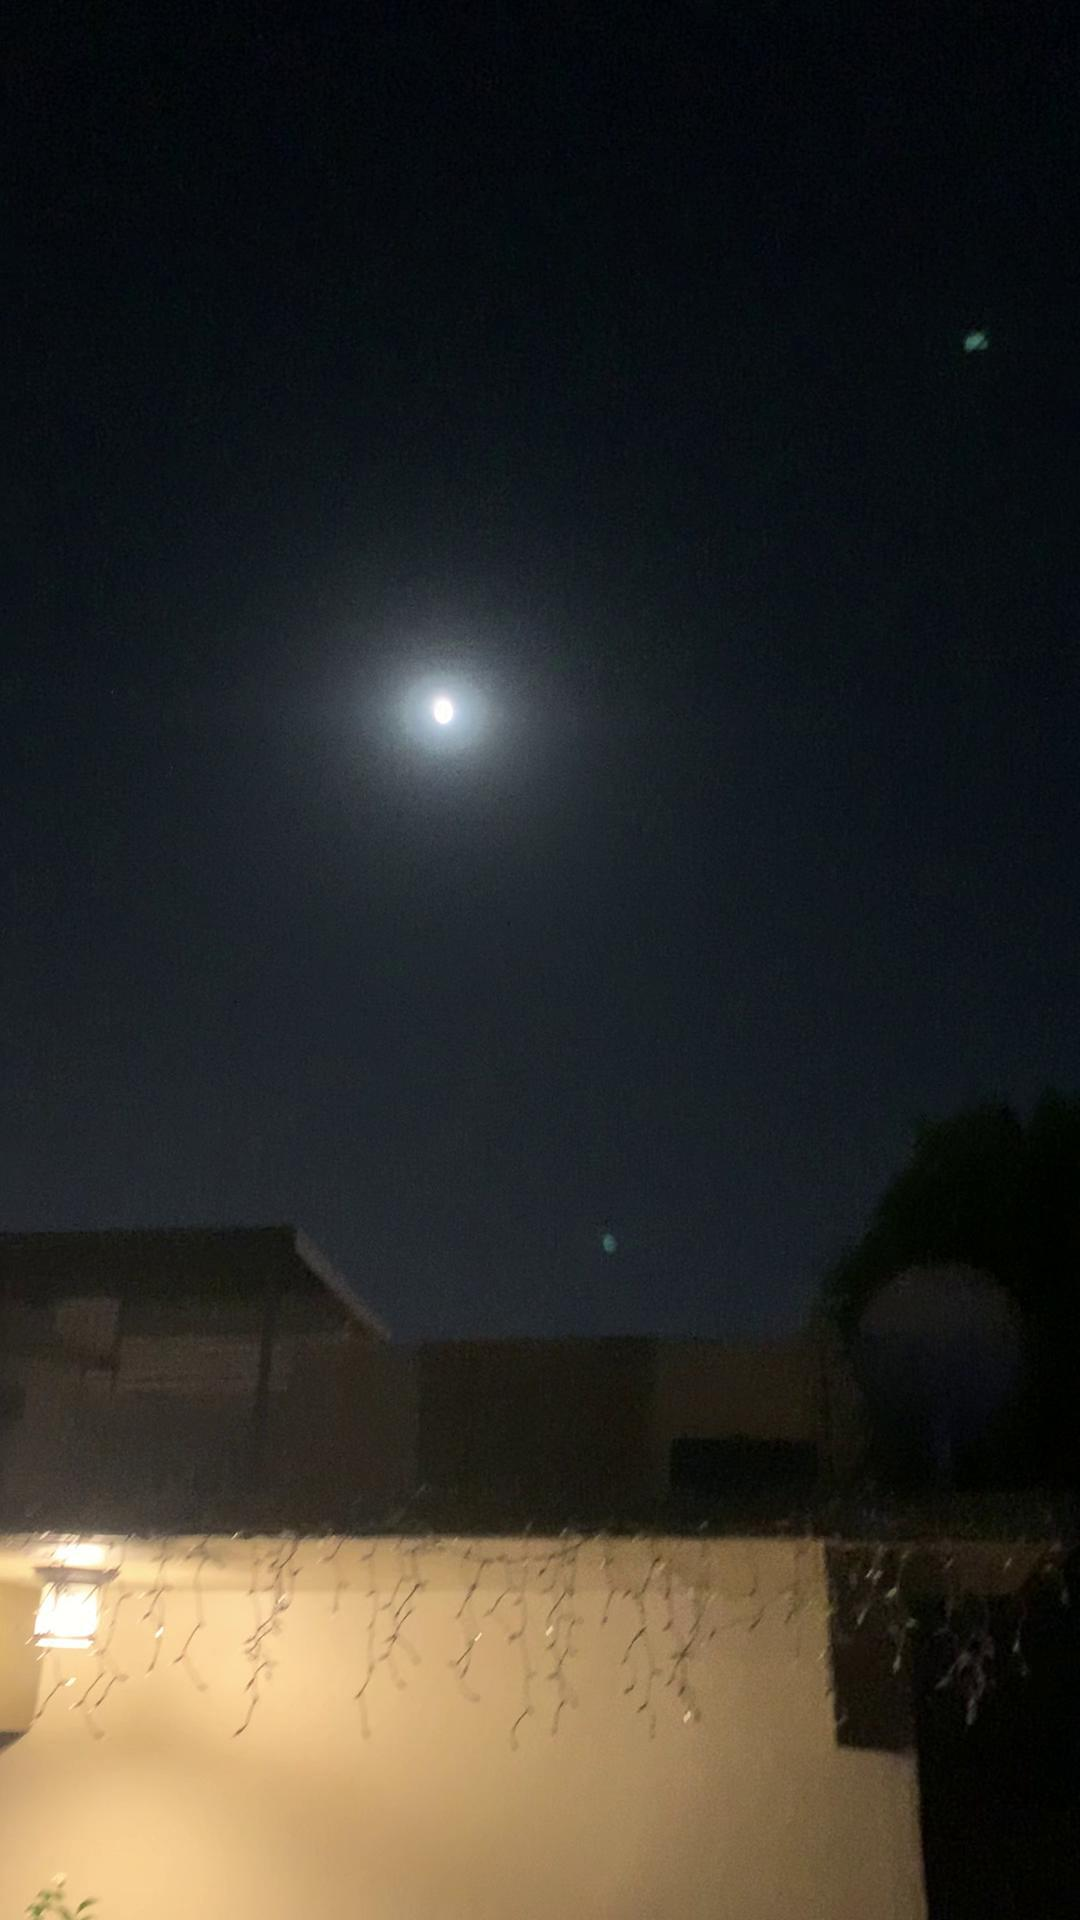moon: (405, 670, 492, 749)
